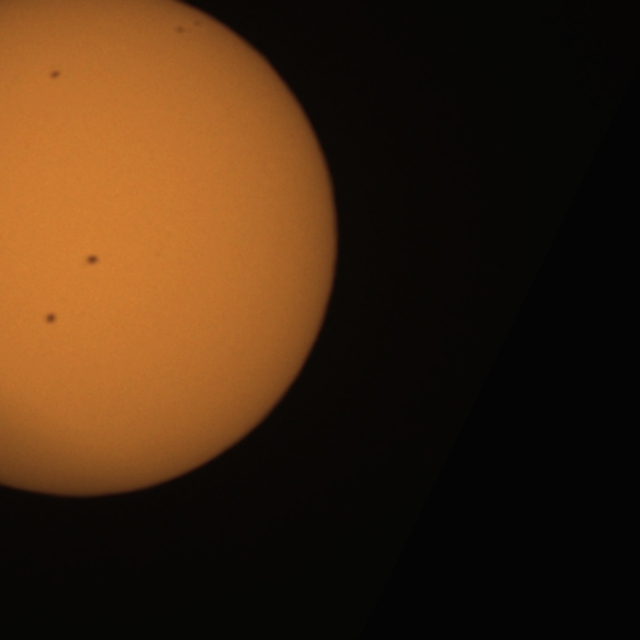sunspot: (173, 20, 202, 37), (43, 310, 59, 326), (84, 253, 101, 268), (48, 68, 63, 81)
